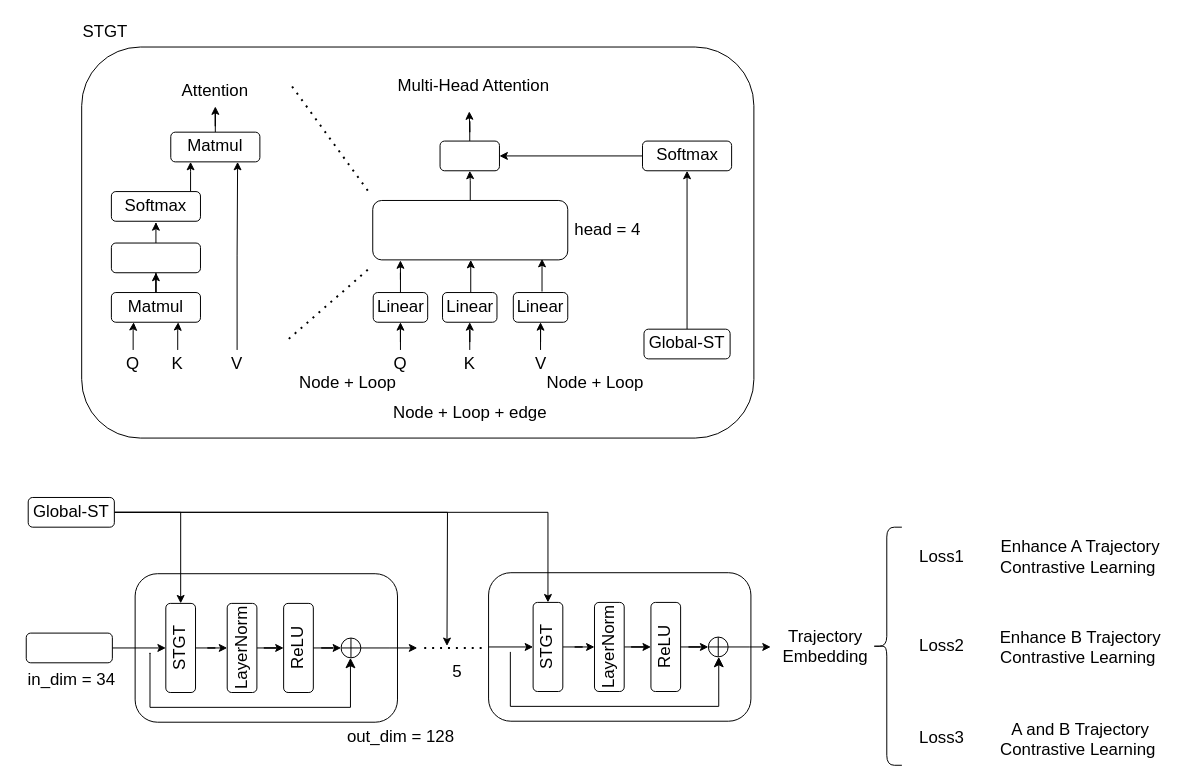
The diagram is 1186 pixels wide and 782 high, and some of its shapes have lost their labels. Each missing label, with the box of its shape:
Concat: (439, 140, 499, 171)
Graph: (25, 632, 112, 663)
Scale: (110, 242, 200, 273)
Scaled Dot-Product Attention: (372, 199, 568, 260)
